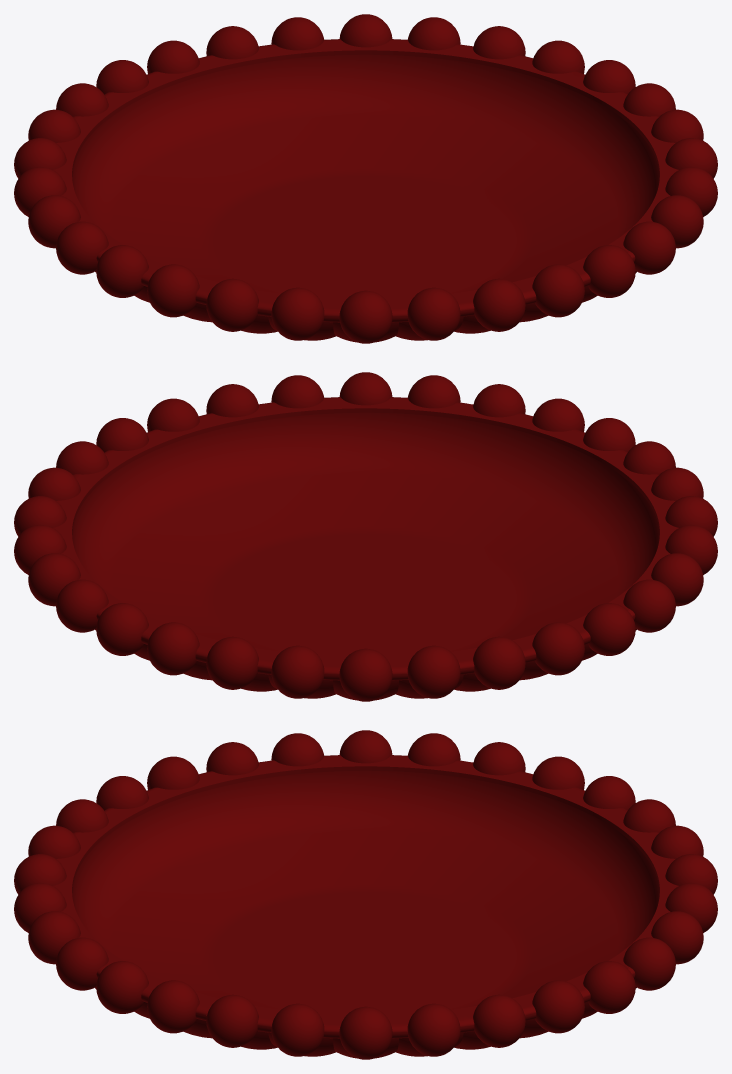
The picture shows the model from 3 angles, top to bottom: view 1: azimuth 30°, elevation 25°; view 2: azimuth 150°, elevation 25°; view 3: azimuth 270°, elevation 25°; orthographic projection.
Size of the model in its own units: 0.15 by 0.024 by 0.1492.
